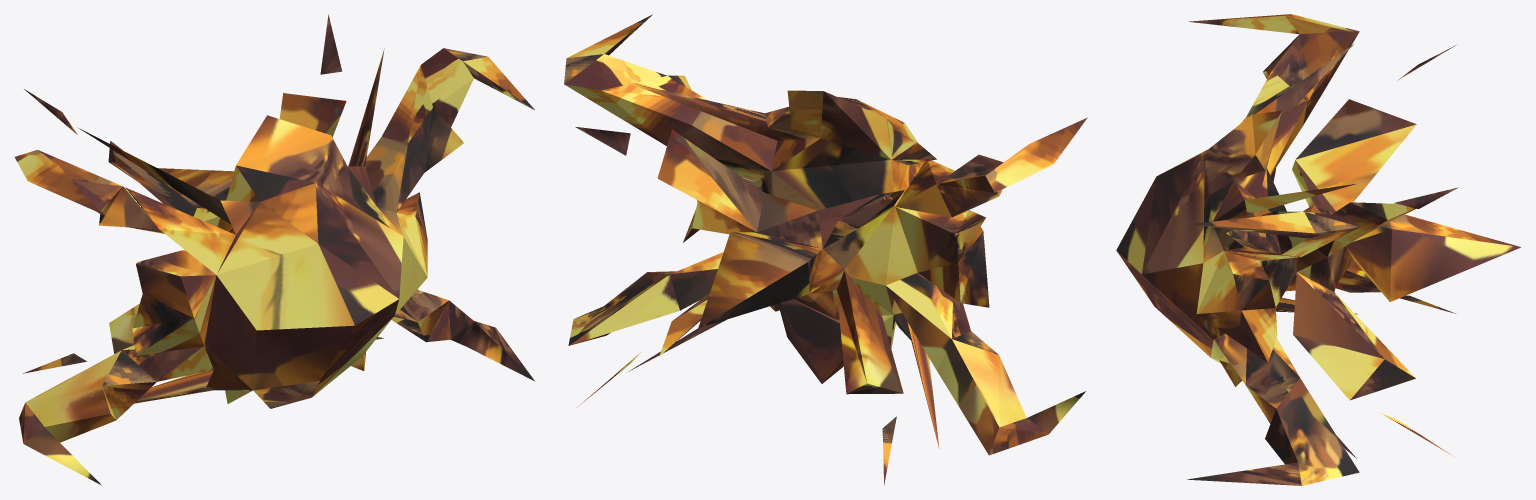
3 views of the same model, side by side, from view 1: azimuth 30°, elevation 25°; view 2: azimuth 150°, elevation 25°; view 3: azimuth 270°, elevation 25° (orthographic). The views are drawn at different scales.
Visible parts, largest first — view 1: ai_model; view 2: ai_model; view 3: ai_model.
Boxes of the visible parts, <box> form: ai_model: <box>14,14,534,485</box>; ai_model: <box>564,14,1087,485</box>; ai_model: <box>1116,14,1520,485</box>.
Bounding box in the file's own units: 1 × 0.5953 × 0.7836.
